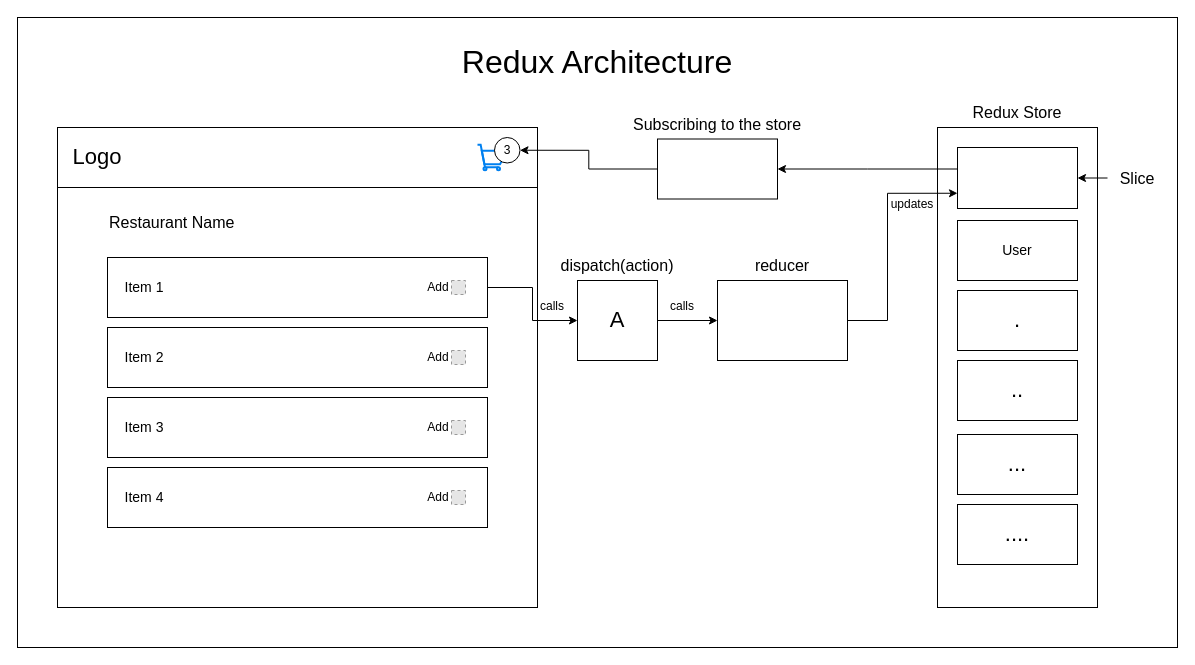
The diagram is 1195 pixels wide and 665 high, and some of its shapes have lost their labels. Grey dashed boxes stand in for pictures. Here are the shapes that lost their labels. From the top down, the centre of each, then its label:
At point (717, 168): "selector".
At point (1017, 177): "Cart".
At point (782, 320): "fn()".
